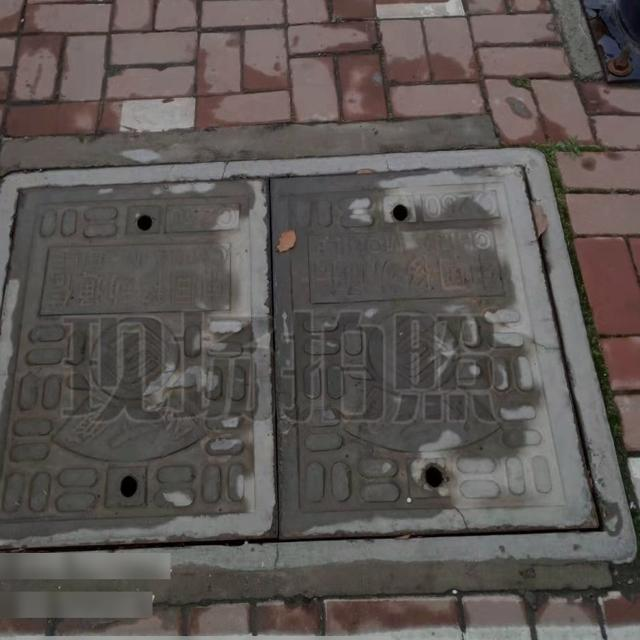good: (0, 146, 637, 566)
